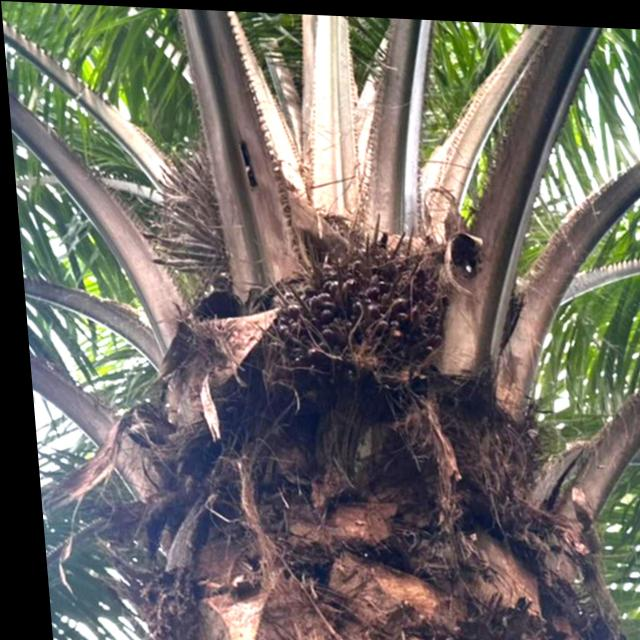ripe: (263, 198, 463, 398)
